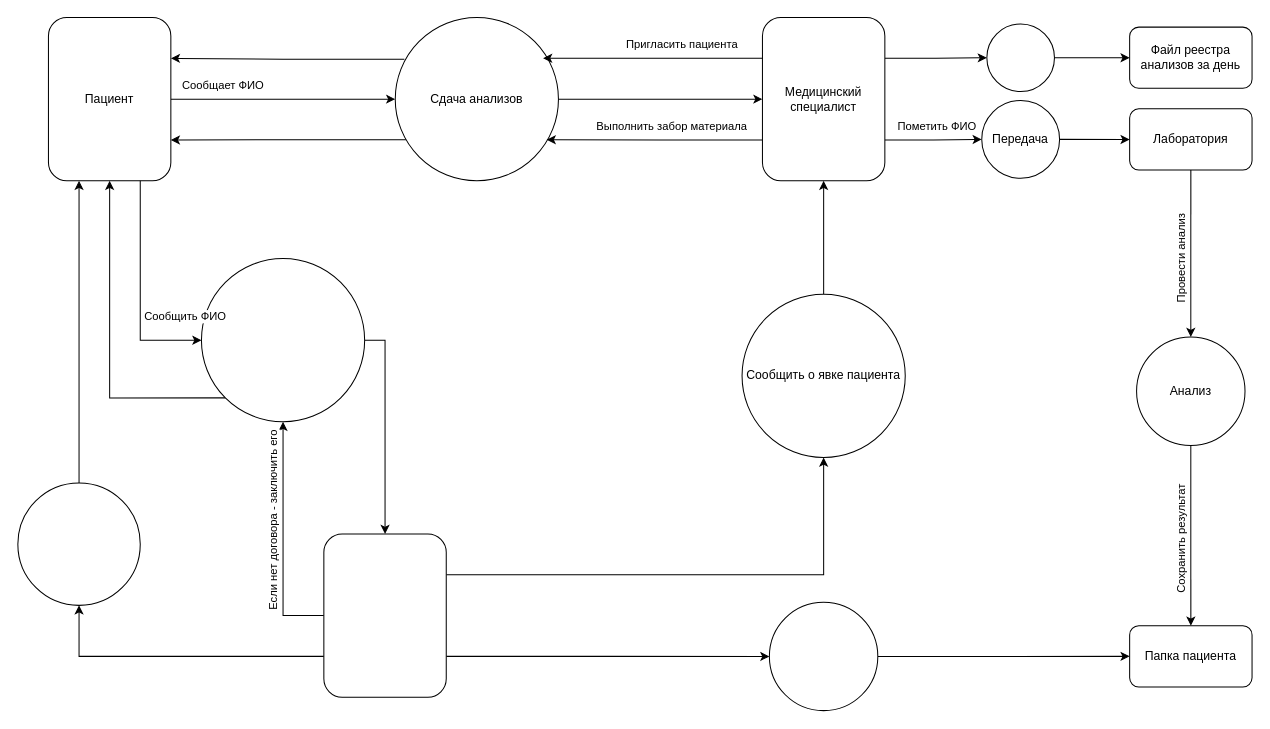
This 1270x729 diagram has some shape labels left out. The shapes that lost their labels are listed below. From the top down, each one's centre as x and y in pixels, then its label:
[1020,57]: Реестр
[282,340]: Обозначение присутствия
[78,543]: Передача результата
[384,615]: Администратор ресепшен
[823,656]: Получение
